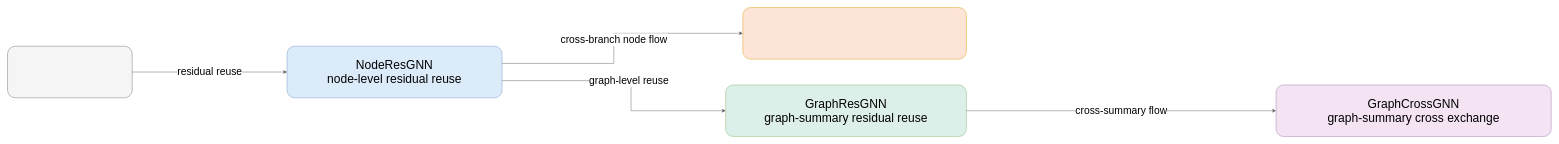
This 1559x144 diagram has some shape labels left out. The centre of each missing label's shape, as x and y in pixels:
"NodeCrossGNN node-level cross exchange" belongs at point 854,33.
"PlainGNN plain stacking" belongs at point 69,72.
